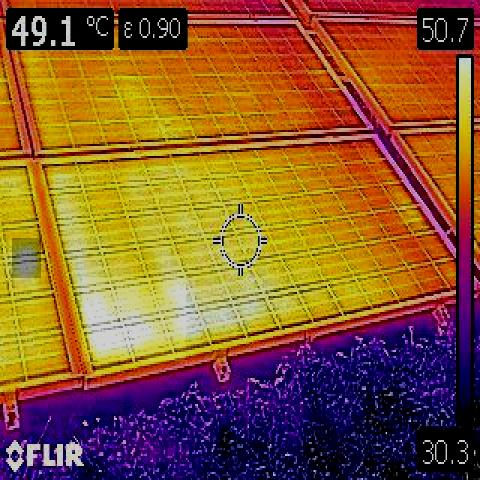fault: (82, 277, 186, 361), (12, 238, 41, 278)
